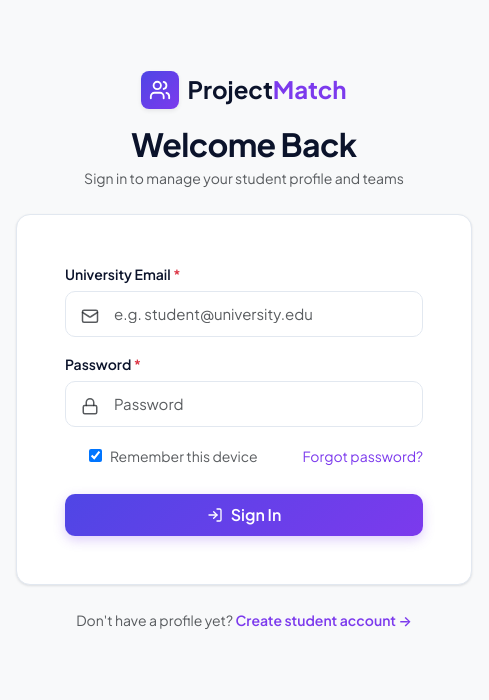
LoginPage › shows a fallback error message when the error has no message
The width and height of the screenshot is (489, 700).
In the field labelled "University Email *": (244, 314) [65, 291, 423, 337], type "student@university.edu"
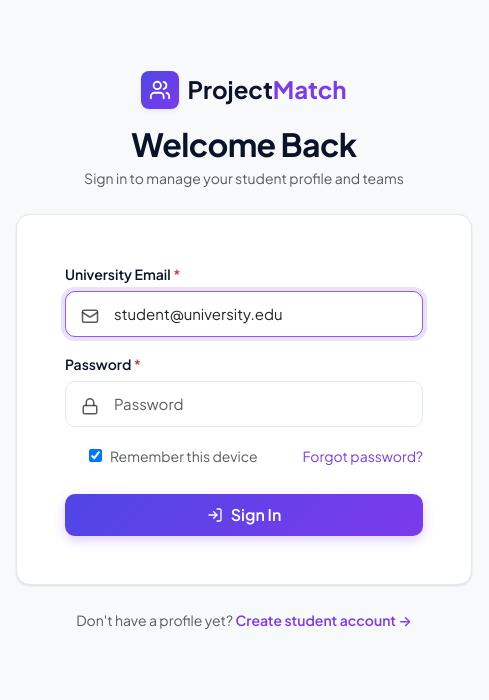
In the password field with placeholder "Password": (244, 404) [65, 381, 423, 427], type "mypassword"
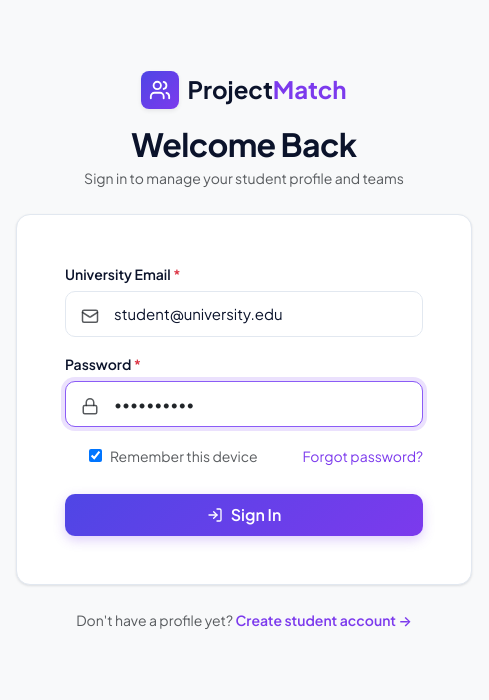
Click the button "Sign In": (244, 515) [65, 494, 423, 536]
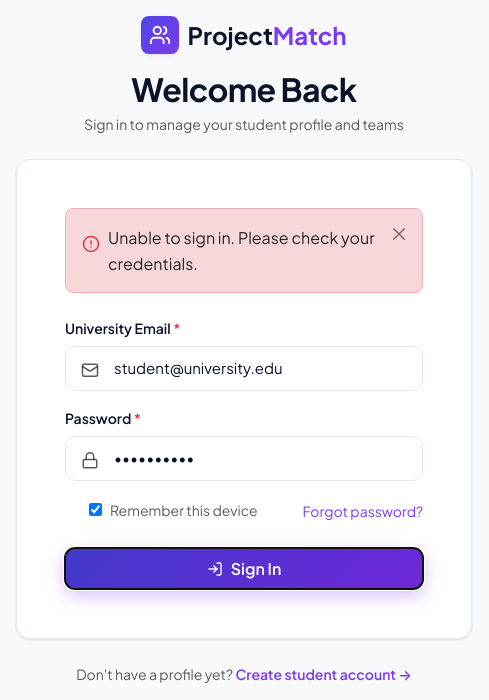
Now the message shows "Unable to sign in", box [108, 227, 375, 274]
